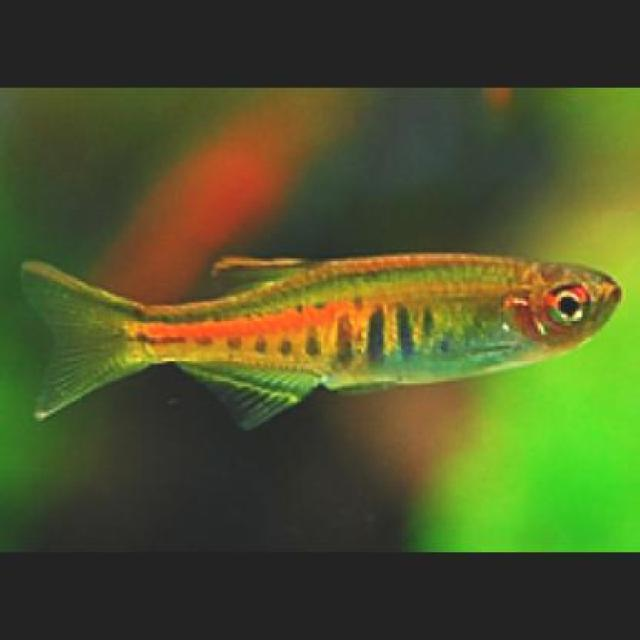ZebraFish: (18, 246, 619, 420)
